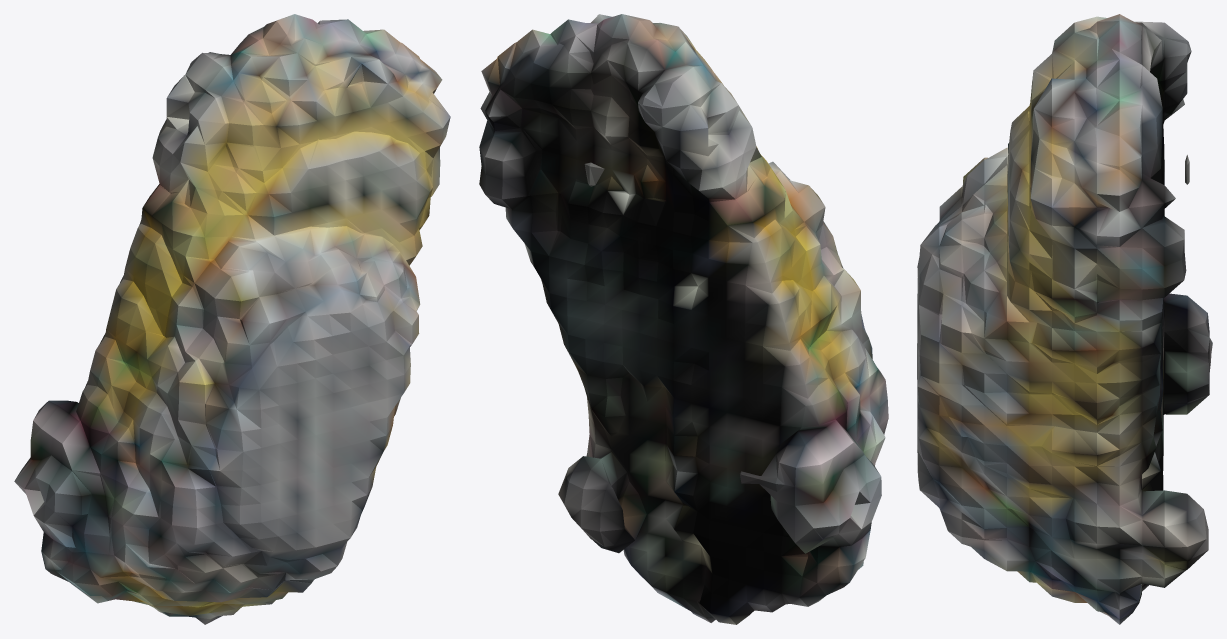
The model's file is 000001_car_vehicle_auto_10240_64.glb.
3 renders of one model, left to right at view 1: azimuth 30°, elevation 25°; view 2: azimuth 150°, elevation 25°; view 3: azimuth 270°, elevation 25°, orthographic. The views are drawn at different scales.
Parts seen in each view (by area): view 1: world; view 2: world; view 3: world.
Part boxes in pixels (x1,y1,x2,y2): world: (14,14,450,624); world: (479,14,888,624); world: (917,14,1212,624).
Bounding box in the file's own units: 0.6048 × 0.8675 × 0.3623.
